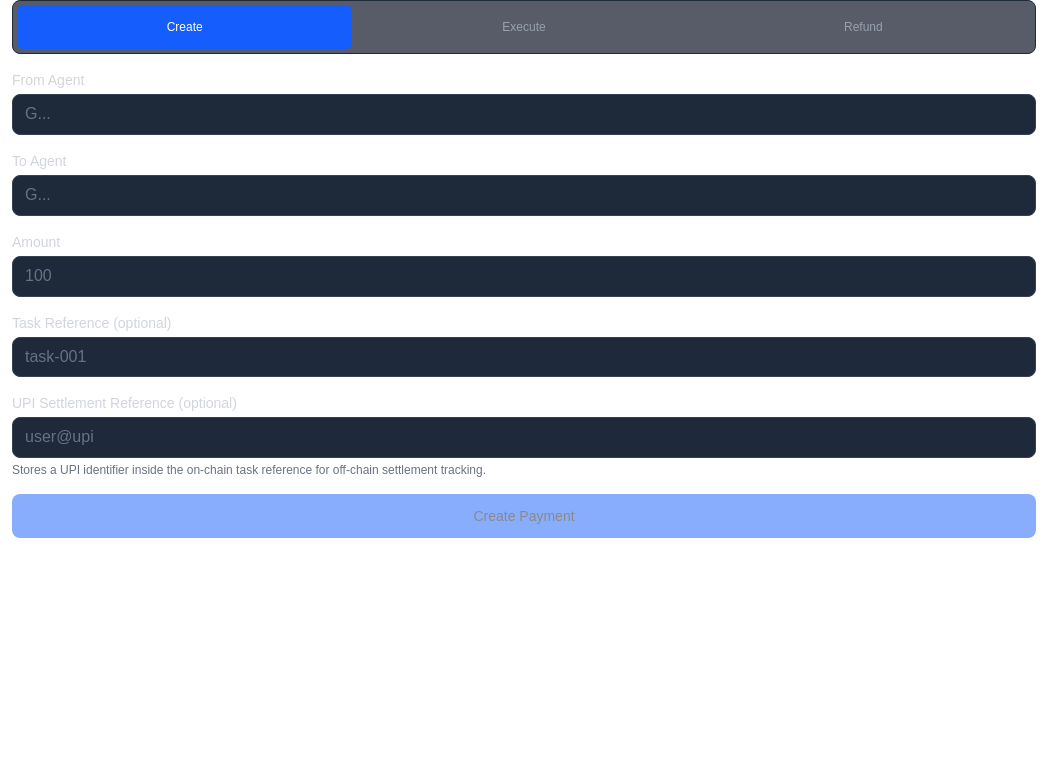
it: PaymentForm › shows result tx on success
The image size is (1048, 768).
Type "GA7Q3B7V6QV4" into the field with placeholder "G..." below "From Agent".
click(524, 114); type("GA7Q3B7V6QV4")  # box [12,94,1036,135]
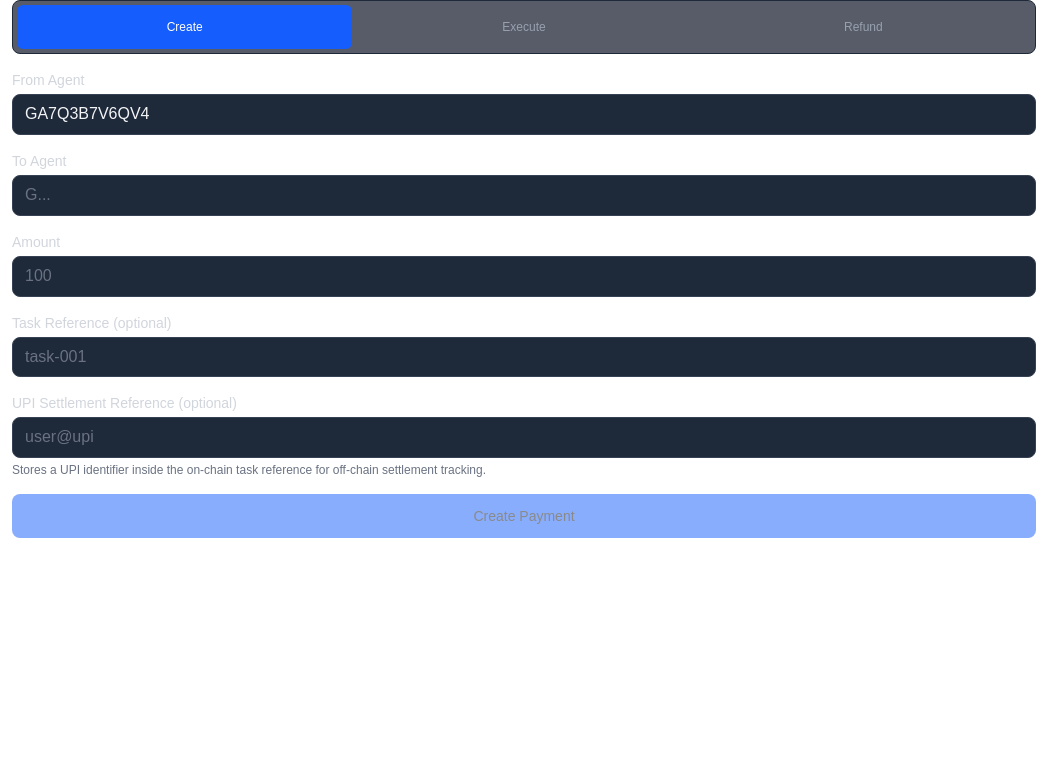
Type "GB7Q3B7V6QV4" into the field with placeholder "G...".
click(524, 195); type("GB7Q3B7V6QV4")  # box [12,175,1036,216]
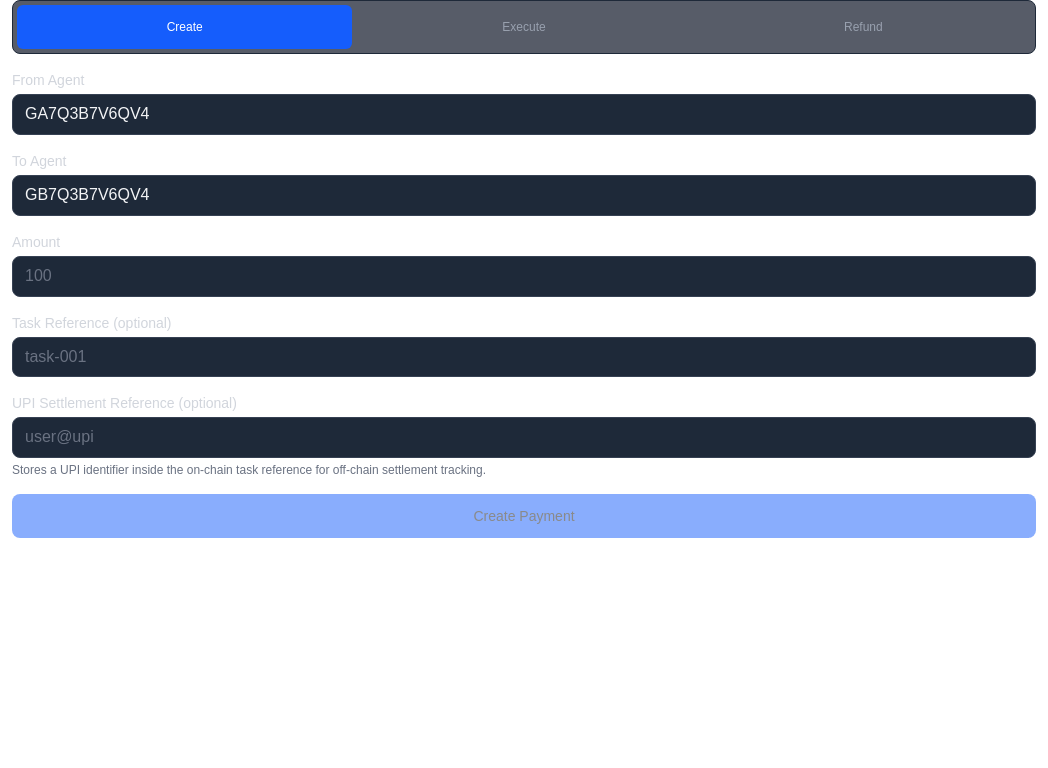
Type "500" into the number field with placeholder "100".
click(524, 276); type("500")  # box [12,256,1036,296]
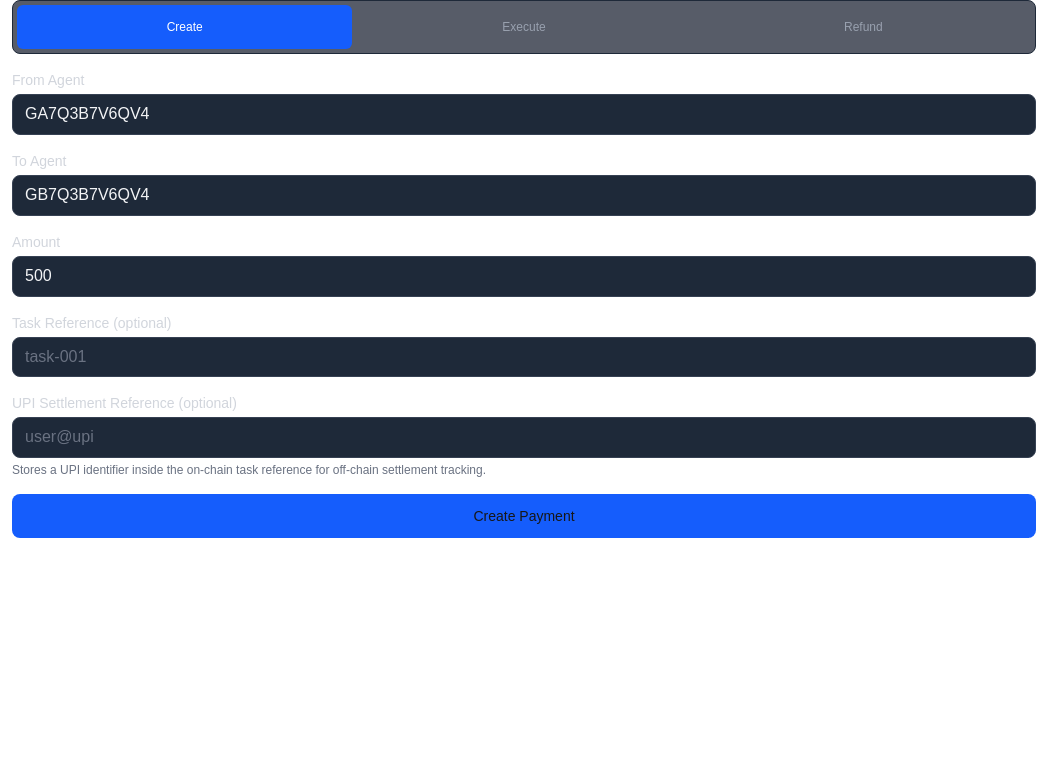
Click the button "Create Payment".
click(524, 516)  # box [12,494,1036,538]
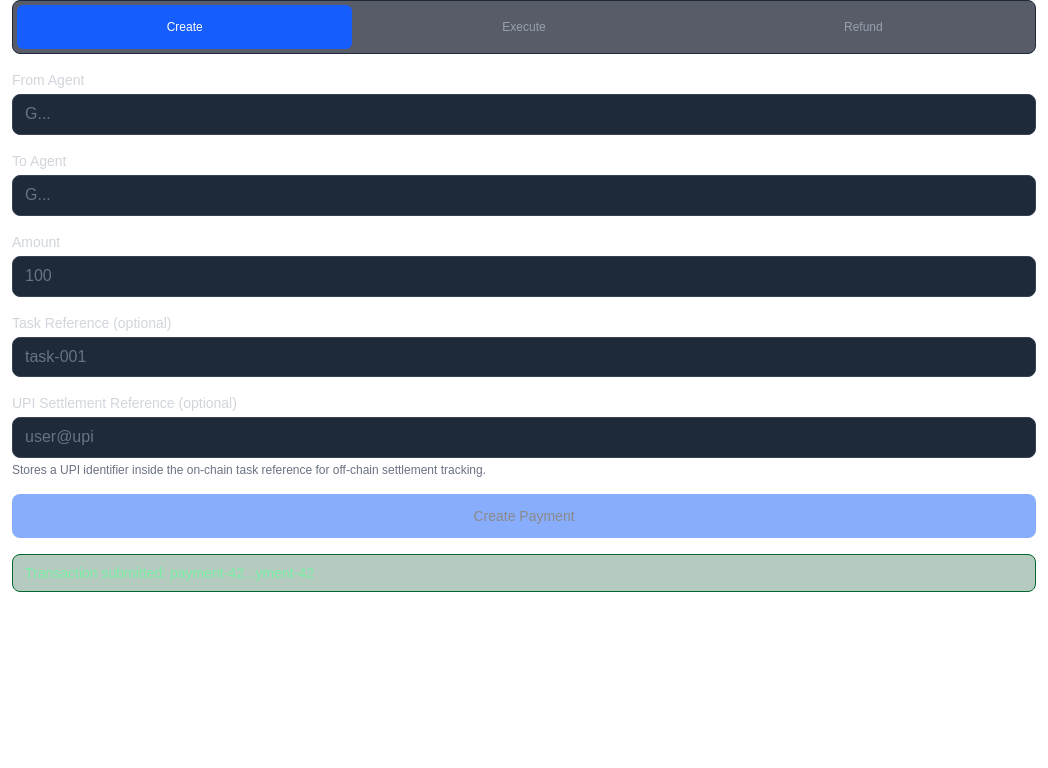
Expected: the text "payment-42...yment-42" is shown, [170,565,314,581]
